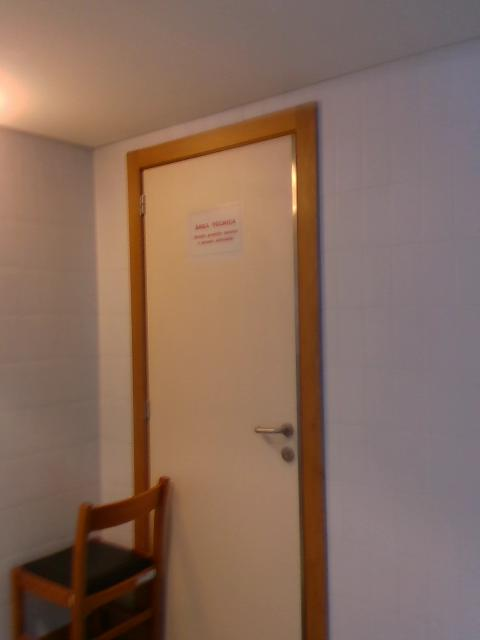closed_door: (124, 106, 327, 639)
